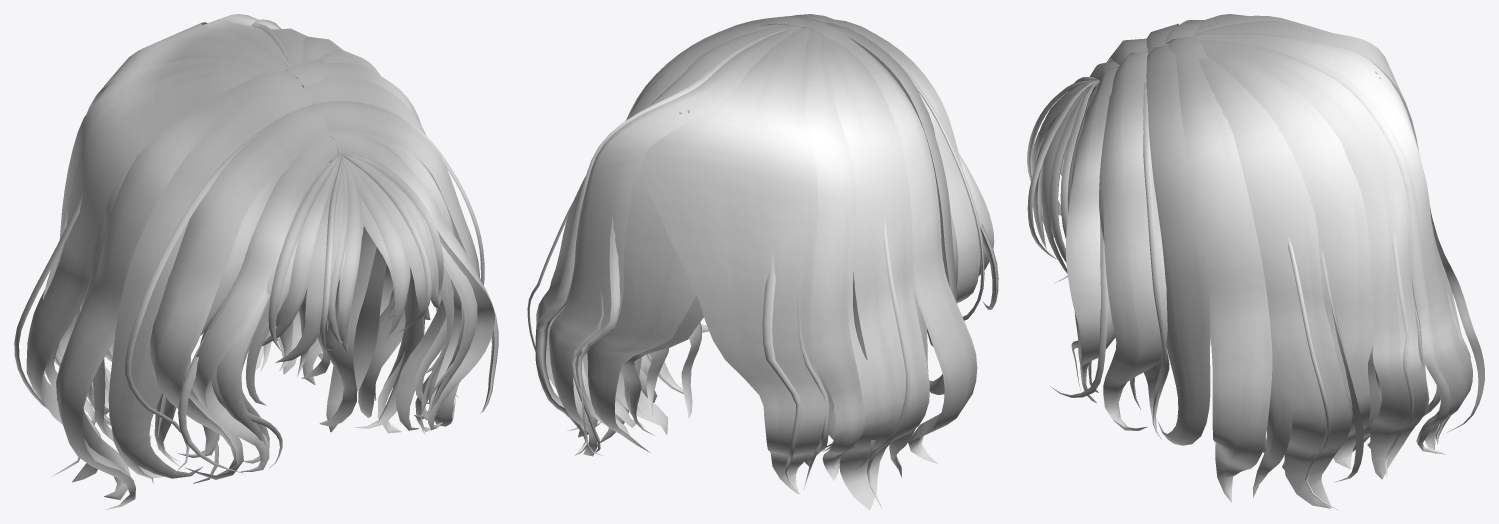
The model's file is Male monster hair.fbx.
The picture shows the model from 3 angles, left to right: view 1: azimuth 30°, elevation 25°; view 2: azimuth 150°, elevation 25°; view 3: azimuth 270°, elevation 25°; orthographic projection. The views are drawn at different scales.
Visible parts, largest first — view 1: Hair; view 2: Hair; view 3: Hair.
Part boxes in pixels (x1=…): Hair: x1=14, y1=14, x2=498, y2=509; Hair: x1=527, y1=14, x2=998, y2=509; Hair: x1=1027, y1=14, x2=1484, y2=509.
Size of the model in its own units: 163 by 168 by 170.
